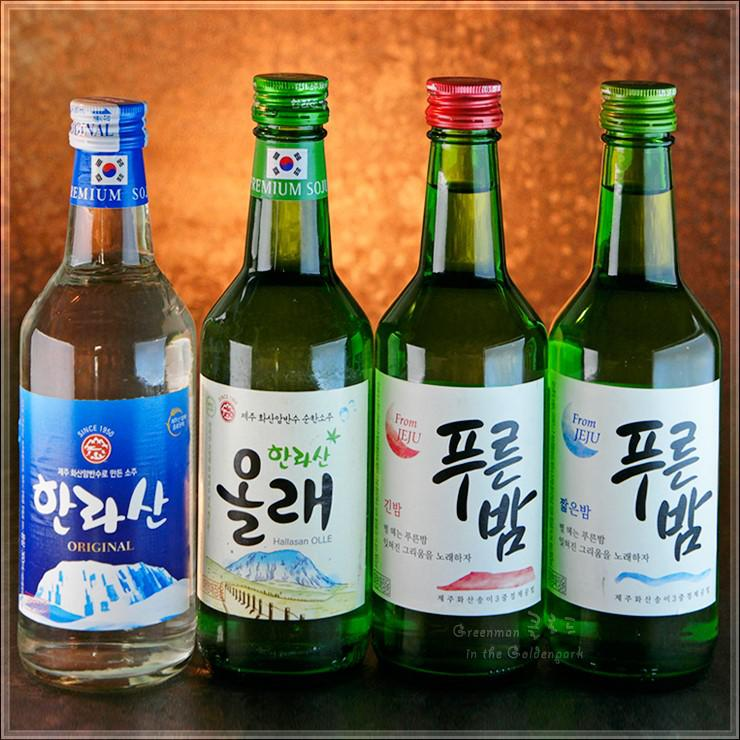soju: (15, 69, 723, 698)
